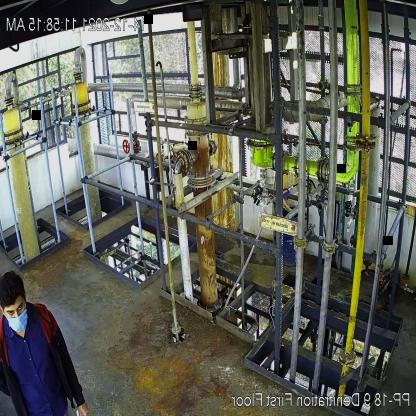no_goggles: (5, 301, 29, 318)
